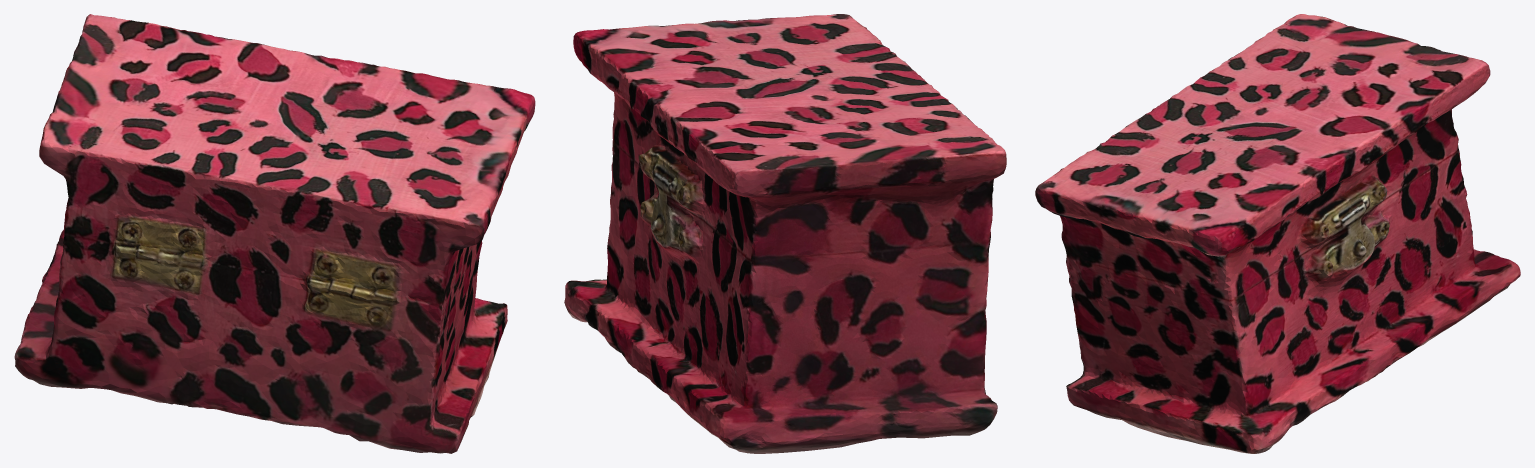
File: Treasure Chest Maryah  (1).glb
3 views of the same model, side by side, from view 1: azimuth 30°, elevation 25°; view 2: azimuth 150°, elevation 25°; view 3: azimuth 270°, elevation 25° (orthographic). The views are drawn at different scales.
Bounding box in the file's own units: 0.4425 × 0.2866 × 0.4445.
1 material, 1 textured.
